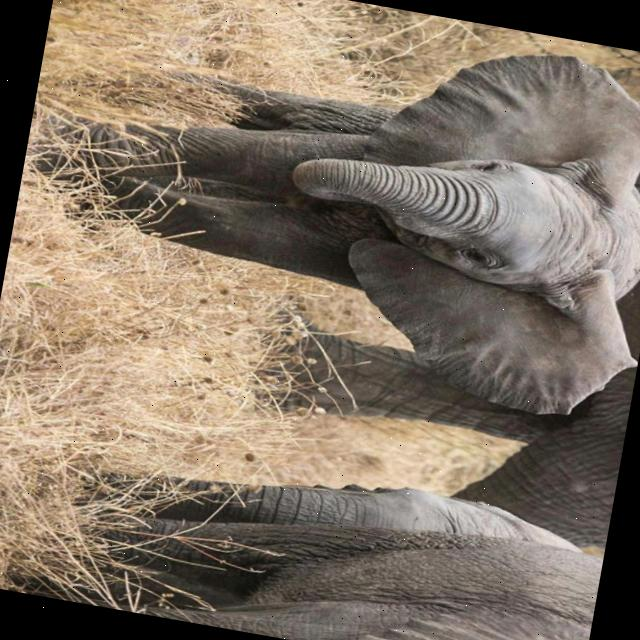Elephant: (19, 0, 640, 430), (9, 421, 609, 640)
